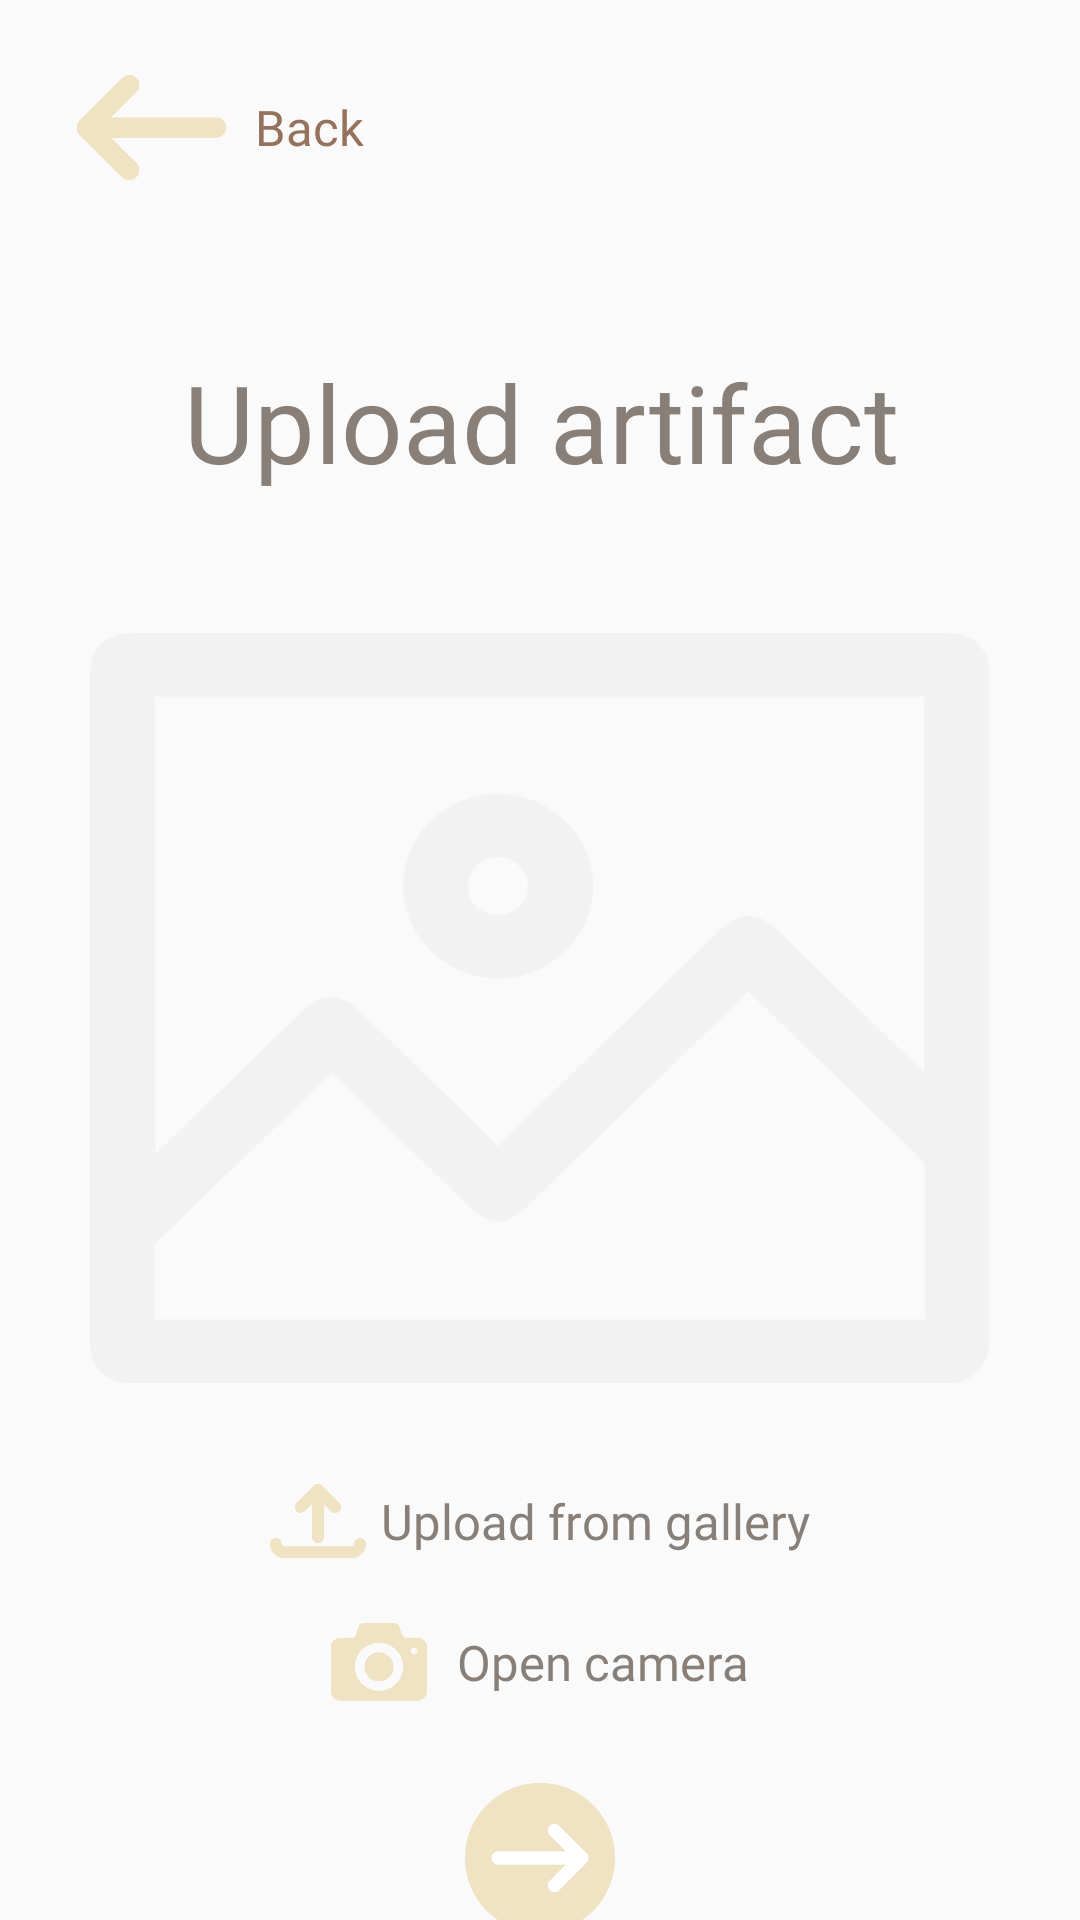

Named icons in this screenshot (1080w x 1920h) and their centers, (x,y):
next arrow: (540,1851)
